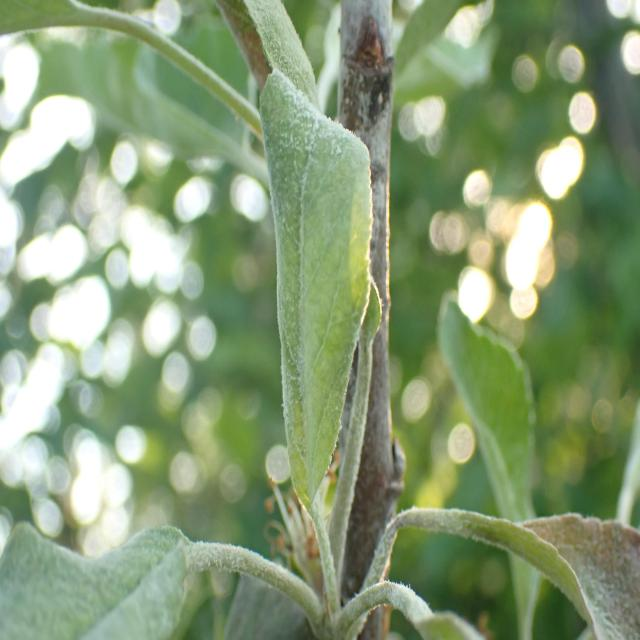Powdery_mildew: (261, 70, 379, 520), (395, 477, 640, 640), (0, 504, 286, 640), (211, 0, 324, 129)
